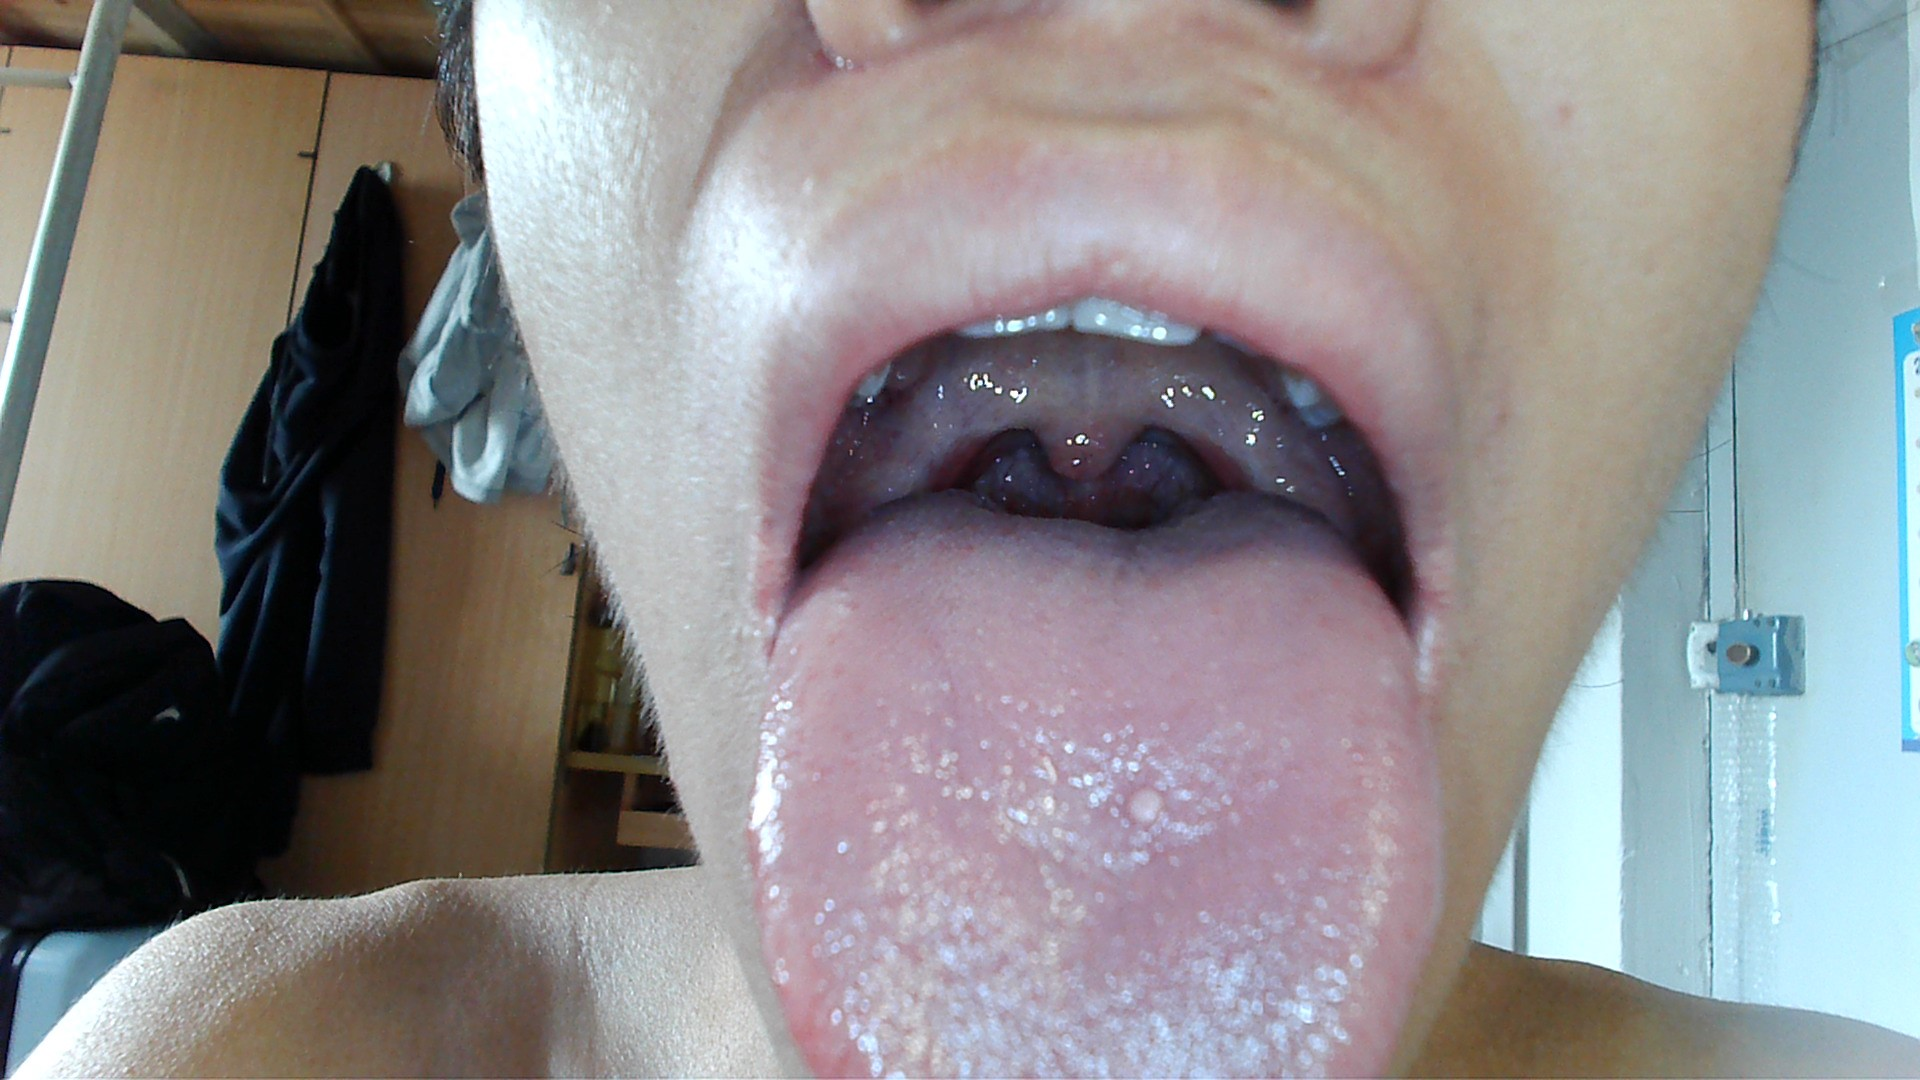throat: (1182, 376, 1262, 492), (902, 392, 986, 492)
